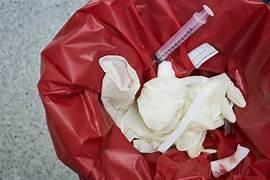Syringe: (155, 5, 213, 62)
